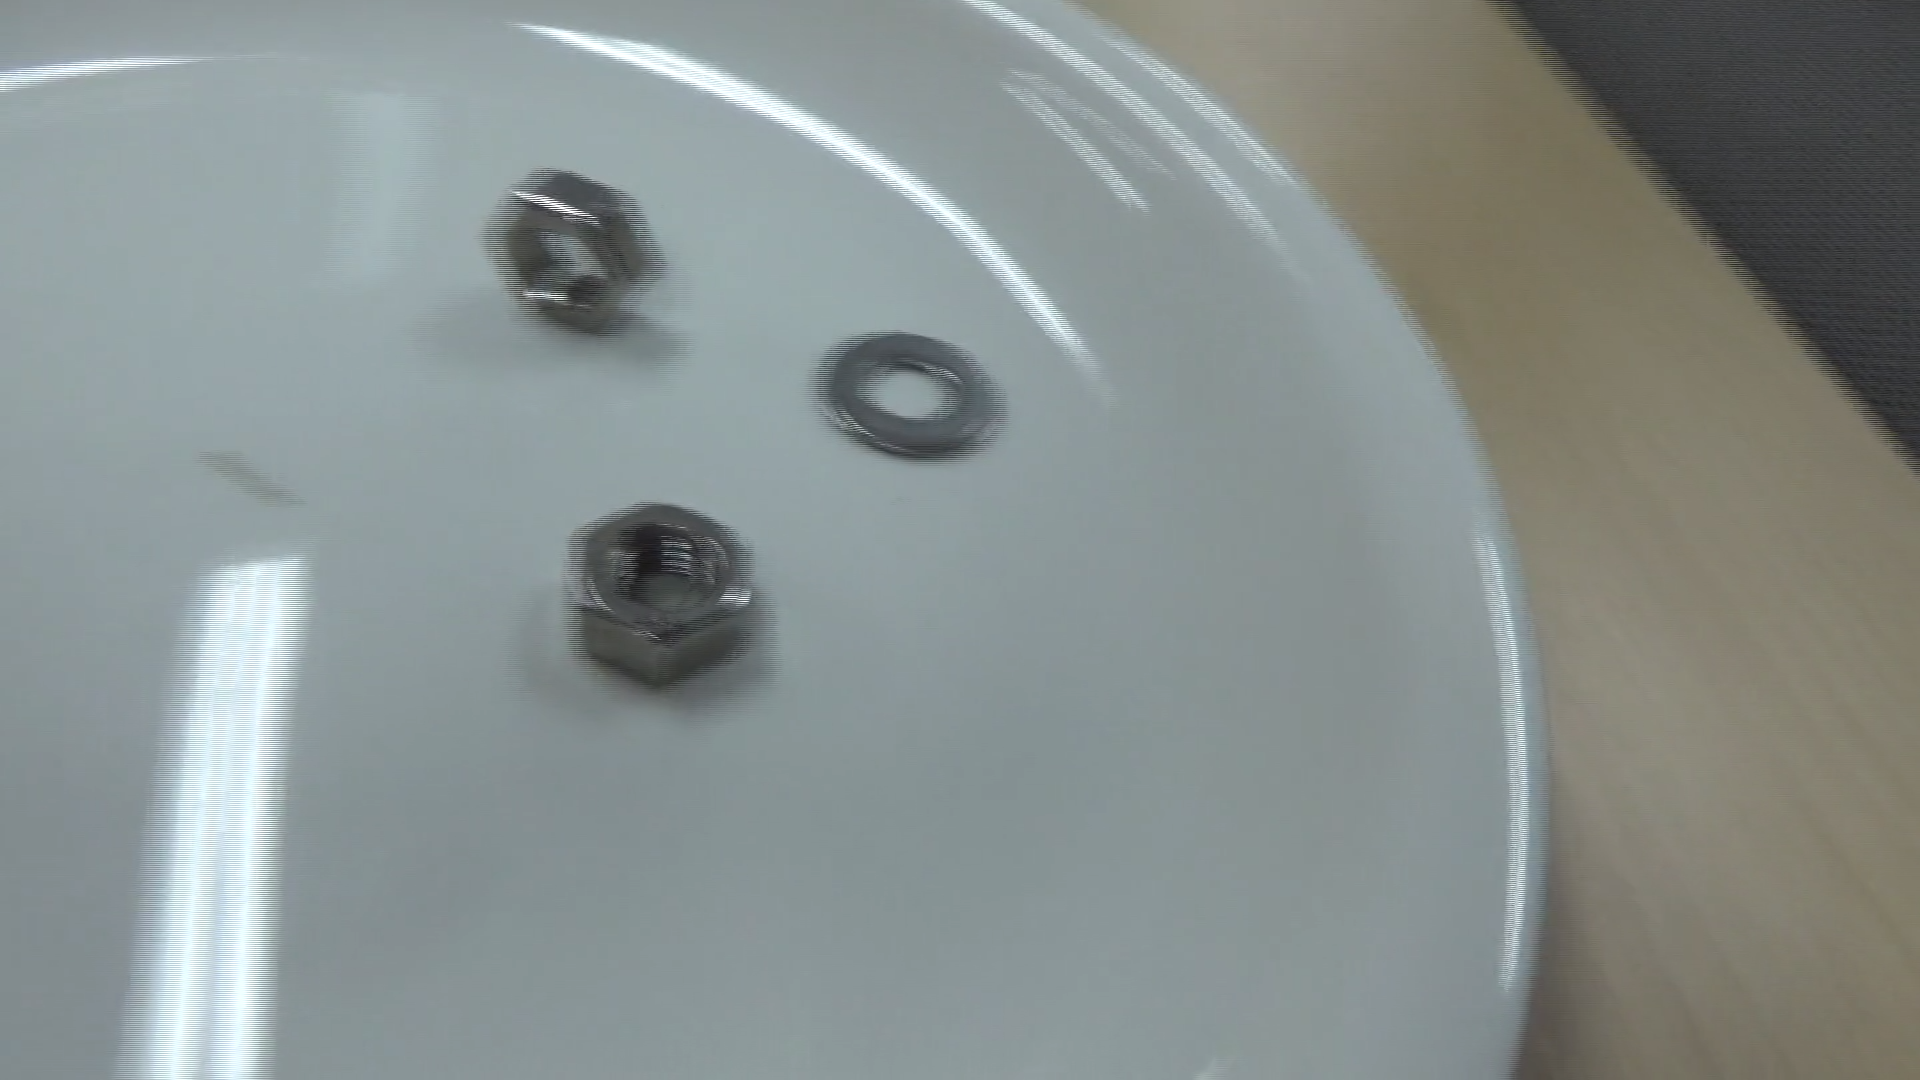nut: (560, 498, 761, 695), (483, 164, 673, 342)
washer: (812, 326, 1004, 462)
